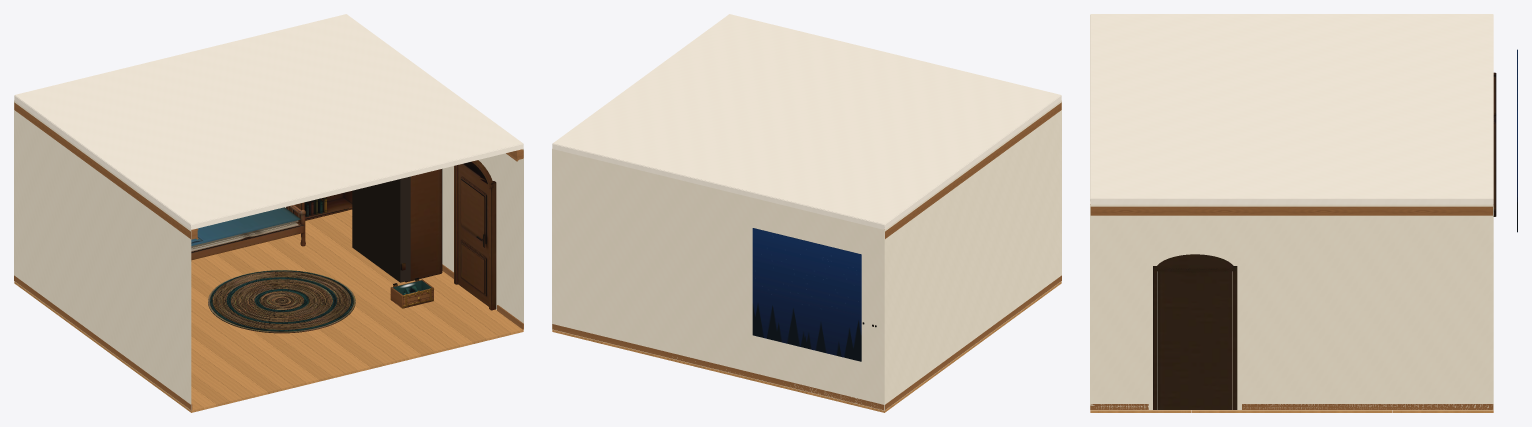
File: env.glb
3 renders of one model, left to right at view 1: azimuth 30°, elevation 25°; view 2: azimuth 150°, elevation 25°; view 3: azimuth 270°, elevation 25°, orthographic. The views are drawn at different scales.
Parts seen in each view (by area): view 1: ENV_ceiling, ENV_plaster, ENV_floor, ENV_merged_C4_furniture, ENV_rug, HIT_hs_wardrobe, ENV_trim, ENV_blanket, ENV_baseboard_C4, ENV_bed_frame, _C5_DECO_treasure_box.002, ENV_mattress; view 2: ENV_plaster, ENV_ceiling, DECO_night_sky, ENV_baseboard_C4, ENV_trim, ENV_floor; view 3: ENV_ceiling, ENV_plaster, ENV_merged_C4_furniture, ENV_trim, ENV_baseboard_C4, ENV_floor.
Boxes of the visible parts, bbox=[...] form: ENV_ceiling: bbox=[14, 14, 523, 229]; ENV_plaster: bbox=[14, 100, 523, 410]; ENV_floor: bbox=[14, 209, 523, 412]; ENV_merged_C4_furniture: bbox=[289, 160, 496, 310]; ENV_rug: bbox=[208, 270, 355, 333]; HIT_hs_wardrobe: bbox=[352, 176, 410, 282]; ENV_trim: bbox=[14, 102, 523, 239]; ENV_blanket: bbox=[191, 207, 300, 245]; ENV_baseboard_C4: bbox=[14, 264, 523, 410]; ENV_bed_frame: bbox=[191, 205, 305, 260]; _C5_DECO_treasure_box.002: bbox=[390, 279, 433, 308]; ENV_mattress: bbox=[191, 220, 298, 251]; ENV_plaster: bbox=[552, 100, 1061, 410]; ENV_ceiling: bbox=[552, 14, 1061, 229]; DECO_night_sky: bbox=[752, 228, 861, 361]; ENV_baseboard_C4: bbox=[552, 275, 1061, 410]; ENV_trim: bbox=[884, 102, 1061, 238]; ENV_floor: bbox=[552, 281, 1061, 412]; ENV_ceiling: bbox=[1090, 14, 1493, 204]; ENV_plaster: bbox=[1090, 204, 1493, 410]; ENV_merged_C4_furniture: bbox=[1153, 72, 1496, 409]; ENV_trim: bbox=[1090, 204, 1492, 215]; ENV_baseboard_C4: bbox=[1090, 404, 1493, 409]; ENV_floor: bbox=[1090, 410, 1493, 412].
Bounding box in the file's own units: 5.21 × 2.81 × 5.09.
15 materials, 14 textured.
